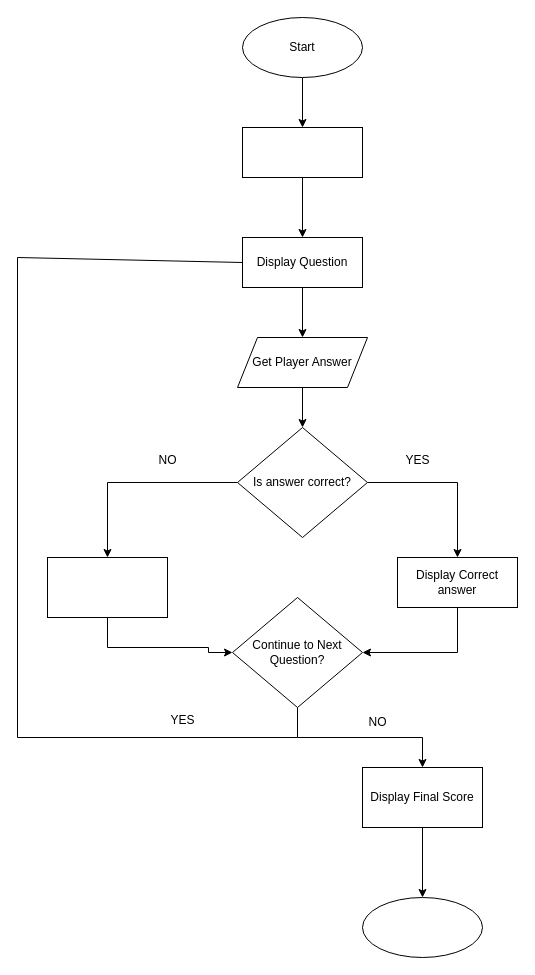
The diagram is 535 pixels wide and 975 high, and some of its shapes have lost their labels. Here are the shapes that lost their labels. From the top down, the centre of each, then its label:
At (302,152): "Initialize Game Variables".
At (107,587): "Update Score".
At (422,927): "Oval".
